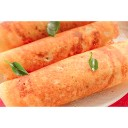dosa: (1, 21, 128, 109)
